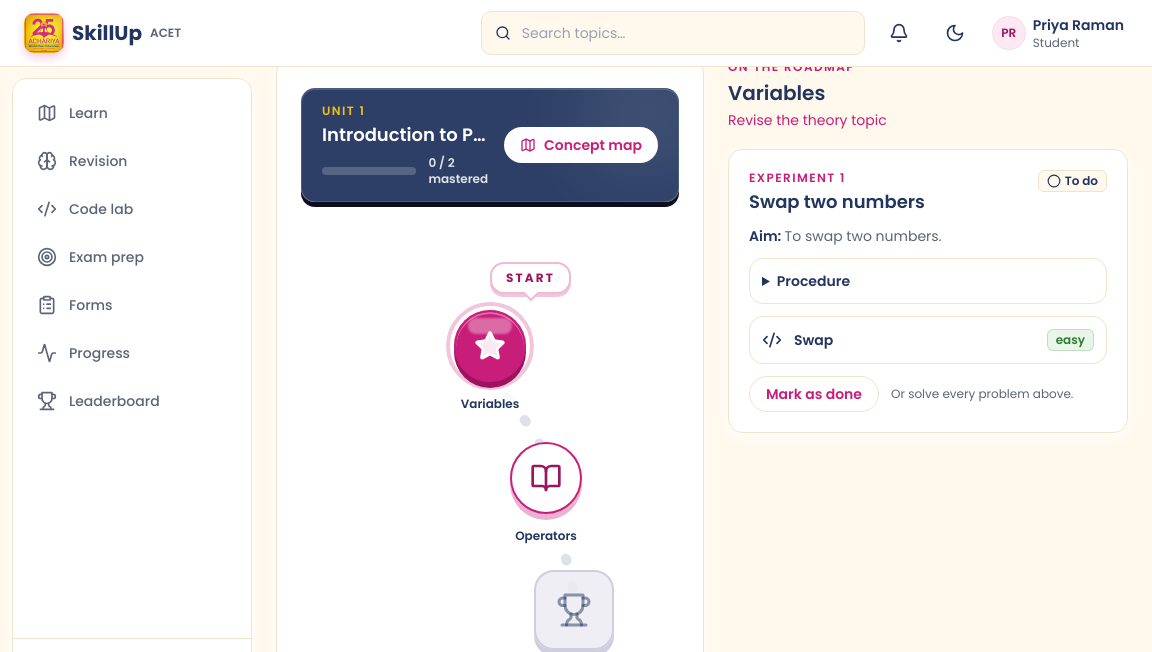
student labs (ADR 0012) › the lab page shows the theory roadmap with its experiments, and marks one done
(page scrolled)
Expected: the button named "Variables. " is shown, [454,310,526,382]
Expected: the button named "Operators. " is shown, [510,442,582,514]
Click the button "Mark as done": coordinates (814, 394) [749,376,879,412]
(page scrolled)
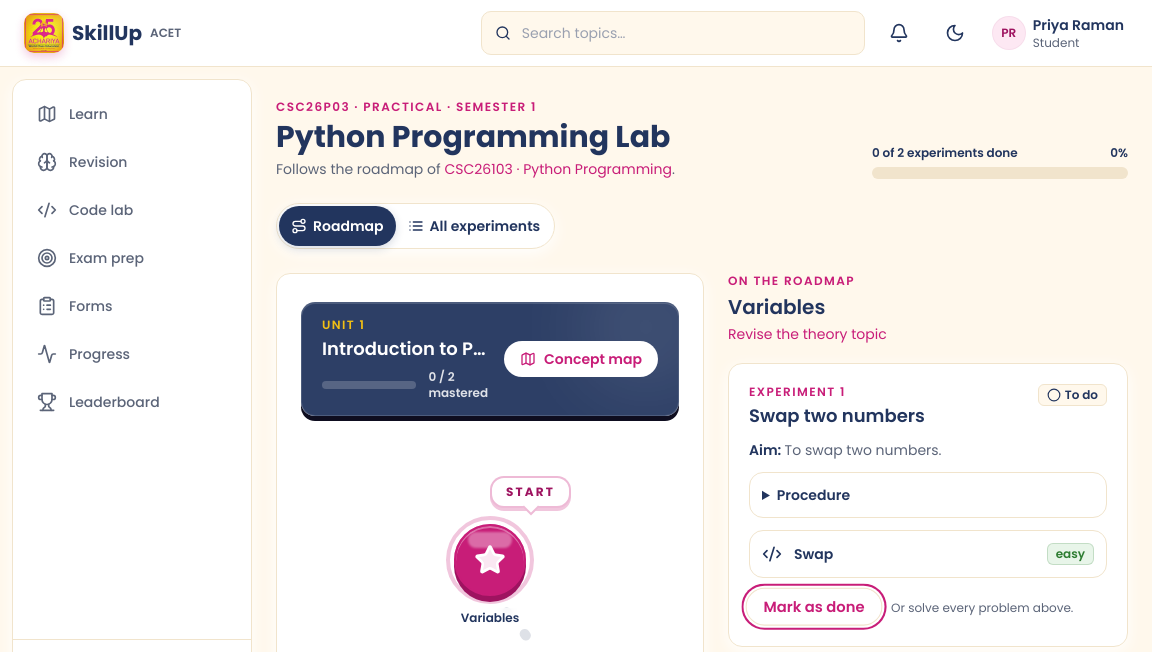
Note: The list view shows every experiment in number order.
Click the button "All experiments": coordinates (474, 226) [396,206,552,246]
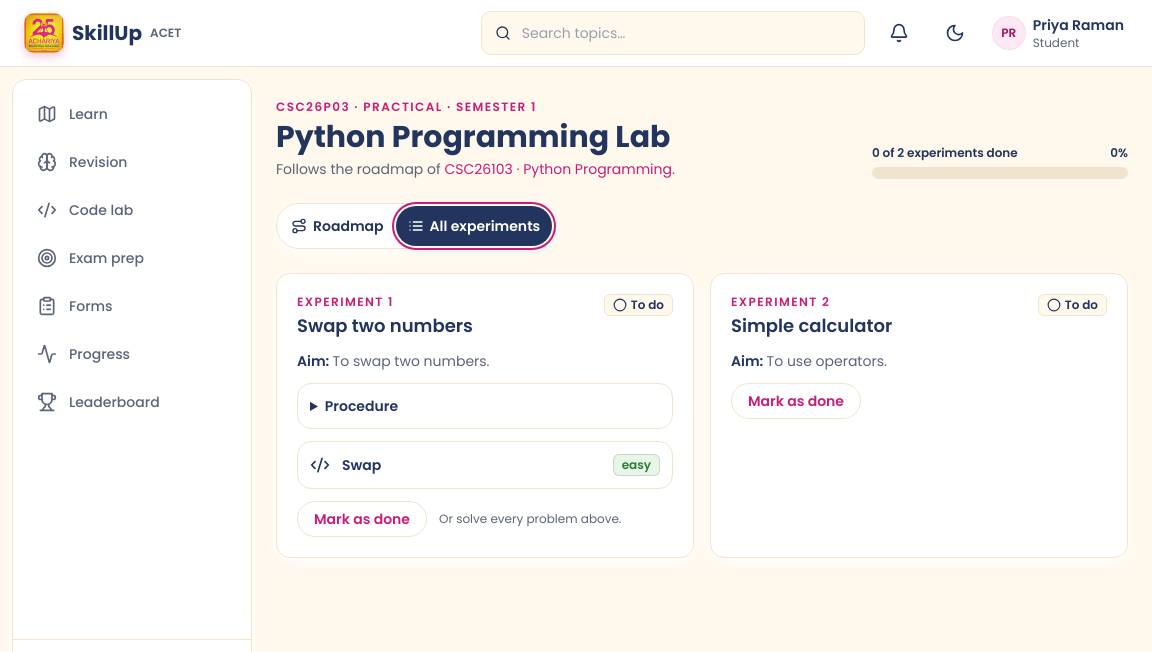
Result: the headings read "Swap two numbers", "Simple calculator", in this order at [297,314,473,339]; [731,314,892,339]
